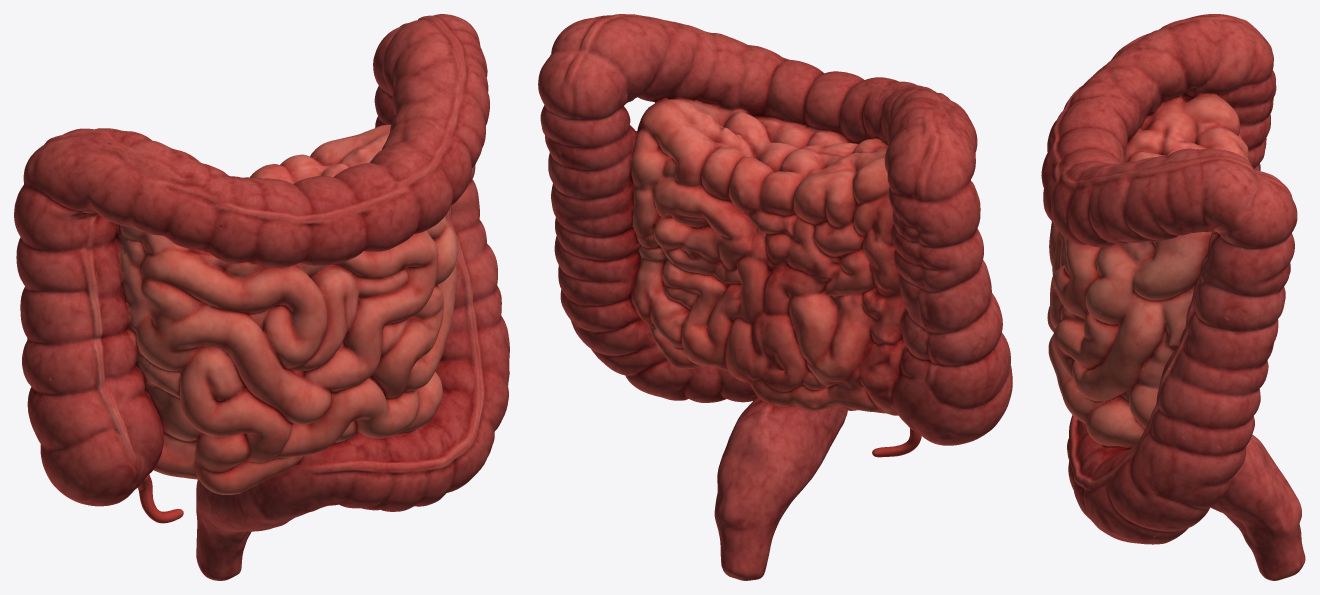
The model's file is Intestinos.glb.
The picture shows the model from 3 angles, left to right: view 1: azimuth 30°, elevation 25°; view 2: azimuth 150°, elevation 25°; view 3: azimuth 270°, elevation 25°; orthographic projection. The views are drawn at different scales.
Parts seen in each view (by area): view 1: world; view 2: world; view 3: world.
Boxes of the visible parts, bbox=[...] form: world: bbox=[14, 14, 509, 580]; world: bbox=[538, 14, 1012, 580]; world: bbox=[1041, 14, 1305, 580].
Bounding box in the file's own units: 0.9111 × 1 × 0.4726.
Materials: 1 (1 with a texture image).
